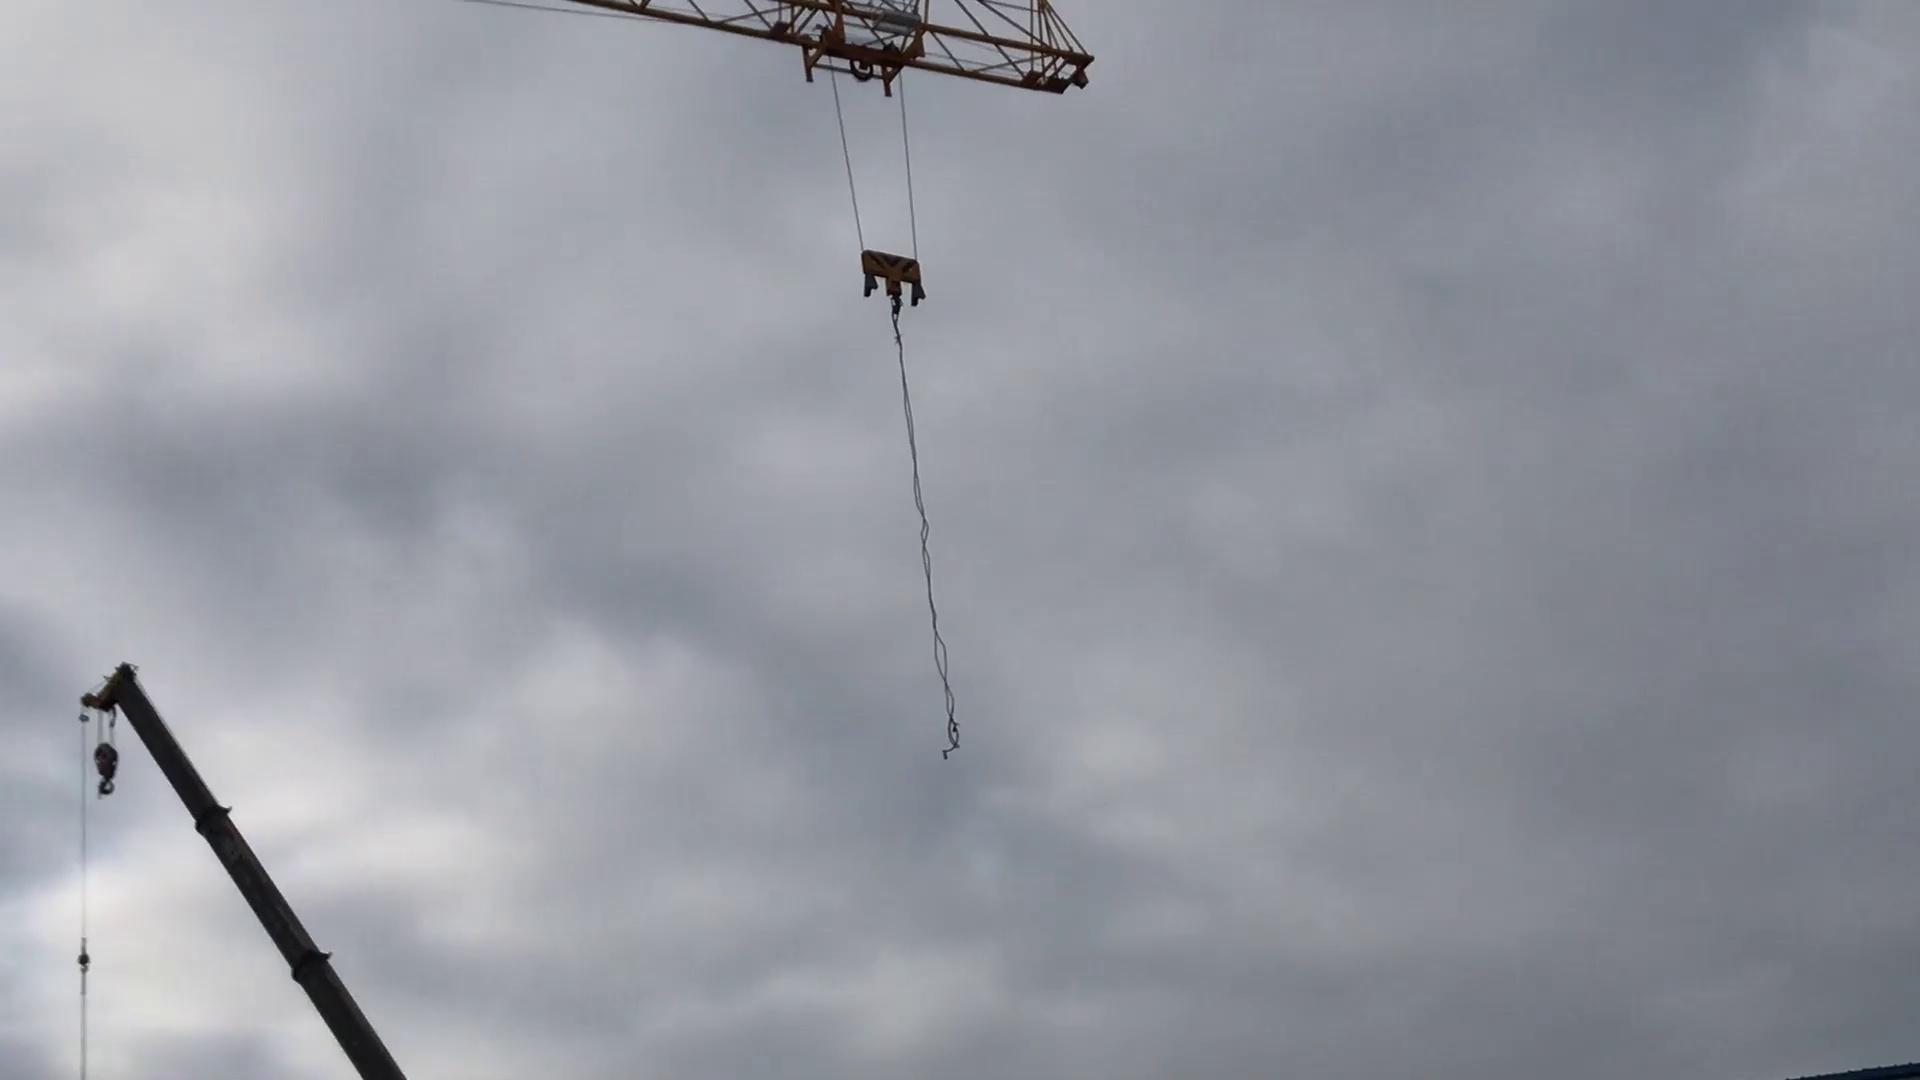hook: (858, 241, 934, 320), (94, 735, 121, 814)
